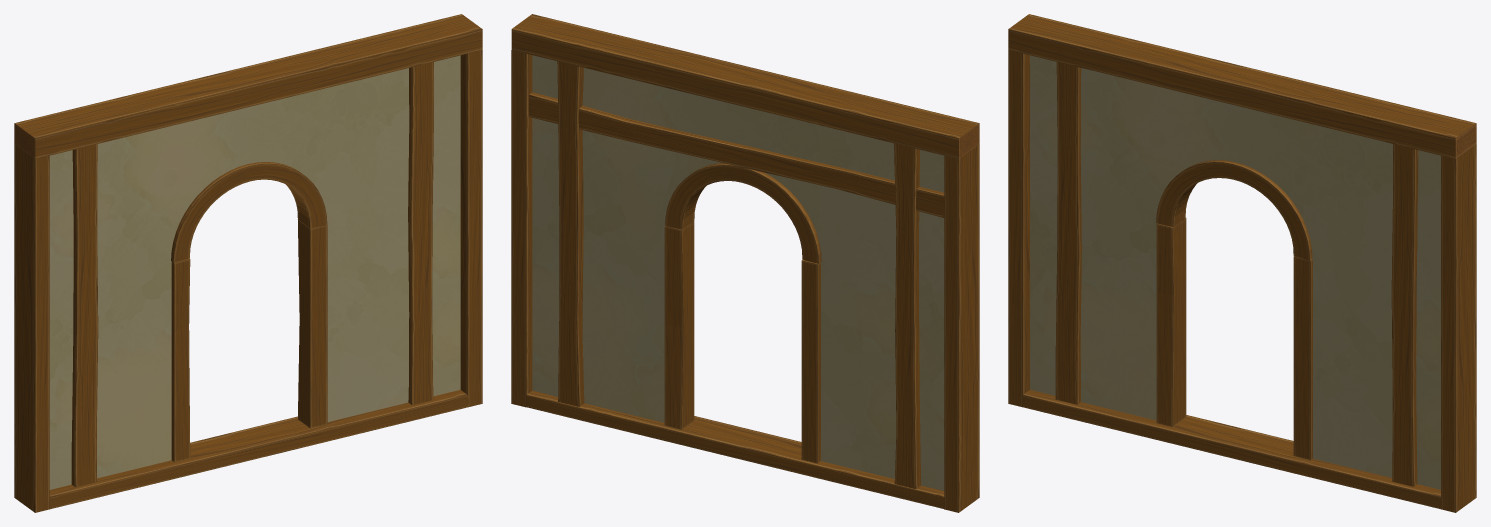
File: SM_House_Wall_5x4_Door_D_01.fbx
3 renders of one model, left to right at view 1: azimuth 30°, elevation 25°; view 2: azimuth 150°, elevation 25°; view 3: azimuth 330°, elevation 25°, orthographic.
Visible parts, largest first — view 1: SM_House_Wall_5x4_Door_D_01; view 2: SM_House_Wall_5x4_Door_D_01; view 3: SM_House_Wall_5x4_Door_D_01.
Part boxes in pixels (bbox=[...]): SM_House_Wall_5x4_Door_D_01: bbox=[14, 14, 482, 512]; SM_House_Wall_5x4_Door_D_01: bbox=[511, 14, 979, 512]; SM_House_Wall_5x4_Door_D_01: bbox=[1008, 14, 1476, 512].
Bounding box in the file's own units: 5 × 4 × 0.4024.
